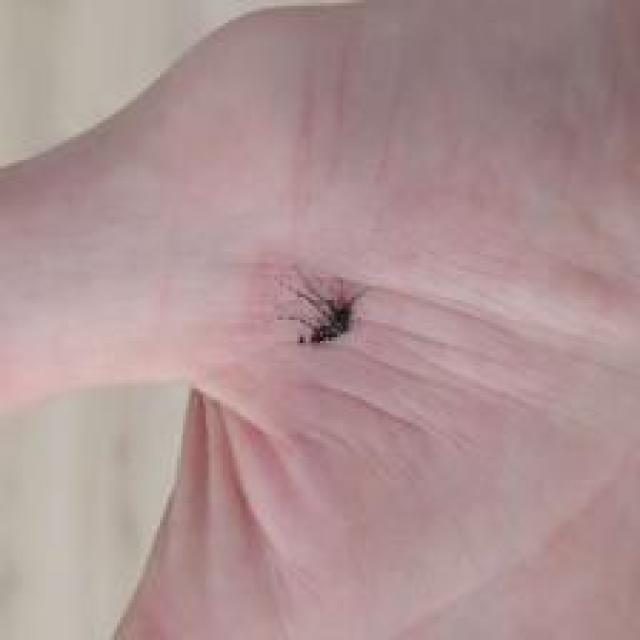Aedes albopictus: (273, 264, 370, 347)
